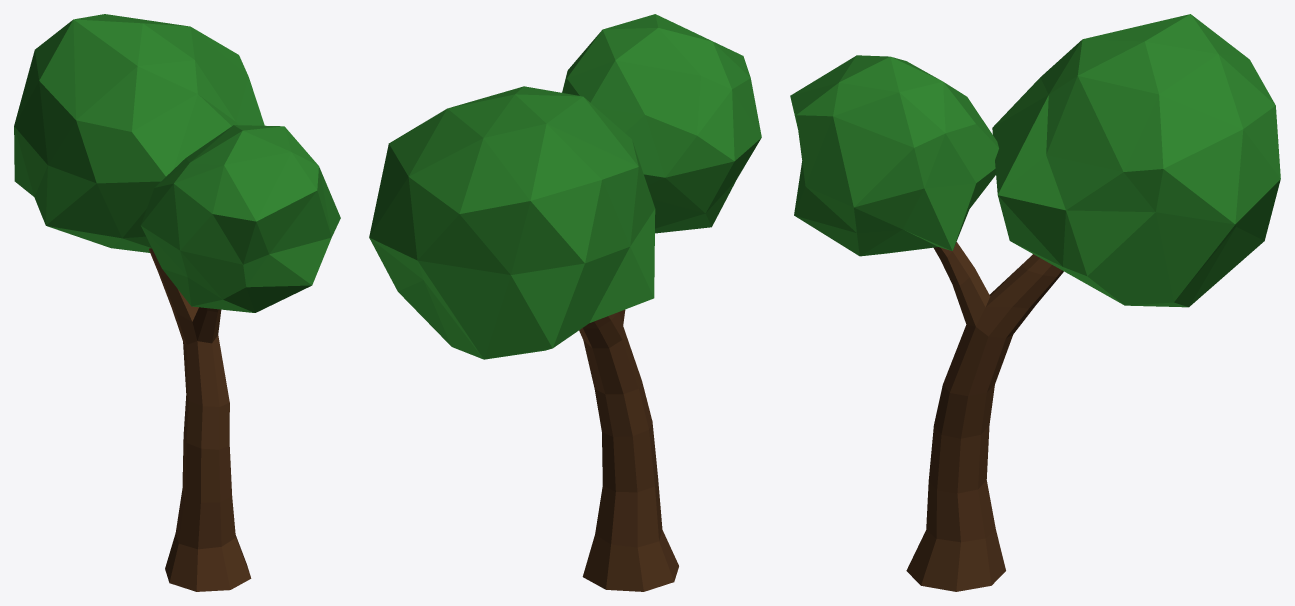
File: Tree2.fbx
3 renders of one model, left to right at view 1: azimuth 30°, elevation 25°; view 2: azimuth 150°, elevation 25°; view 3: azimuth 270°, elevation 25°, orthographic. The views are drawn at different scales.
Parts seen in each view (by area): view 1: Cylinder.006; view 2: Cylinder.006; view 3: Cylinder.006.
Boxes of the visible parts, x1,y1,x2,y2 form: Cylinder.006: [14, 14, 340, 591]; Cylinder.006: [369, 14, 761, 591]; Cylinder.006: [790, 14, 1280, 591].
Bounding box in the file's own units: 199 × 423 × 348.
